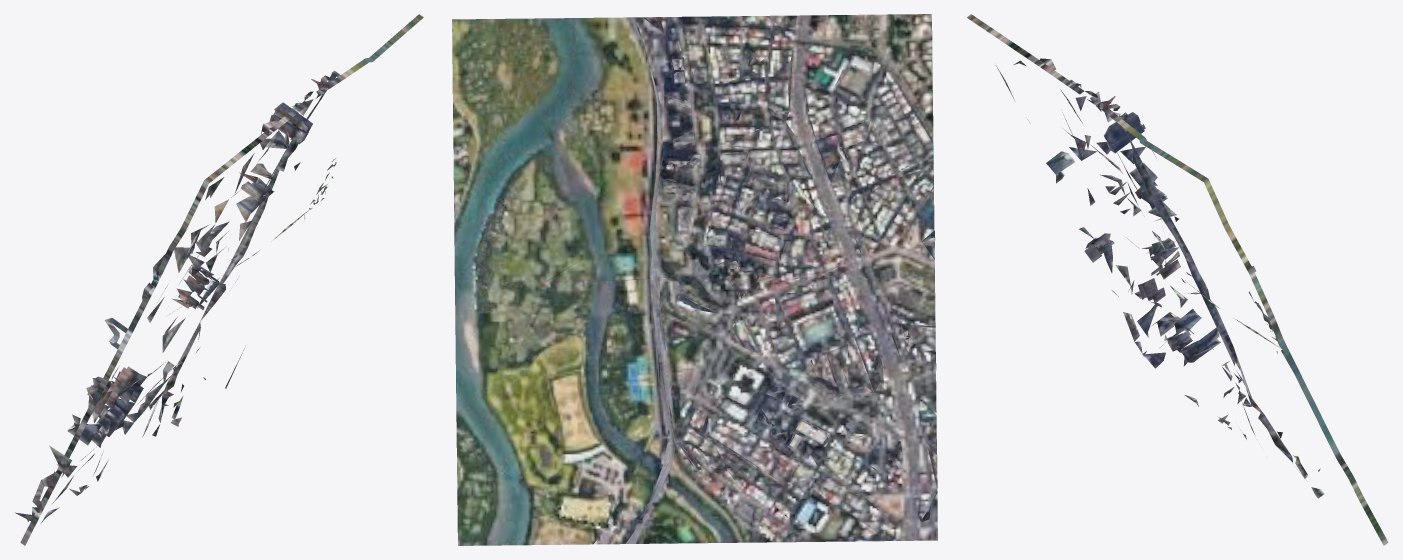
The picture shows the model from 3 angles, left to right: view 1: azimuth 30°, elevation 25°; view 2: azimuth 150°, elevation 25°; view 3: azimuth 270°, elevation 25°; orthographic projection. The views are drawn at different scales.
Size of the model in its own units: 1224 by 1131 by 1028.
1 material, 1 textured.
